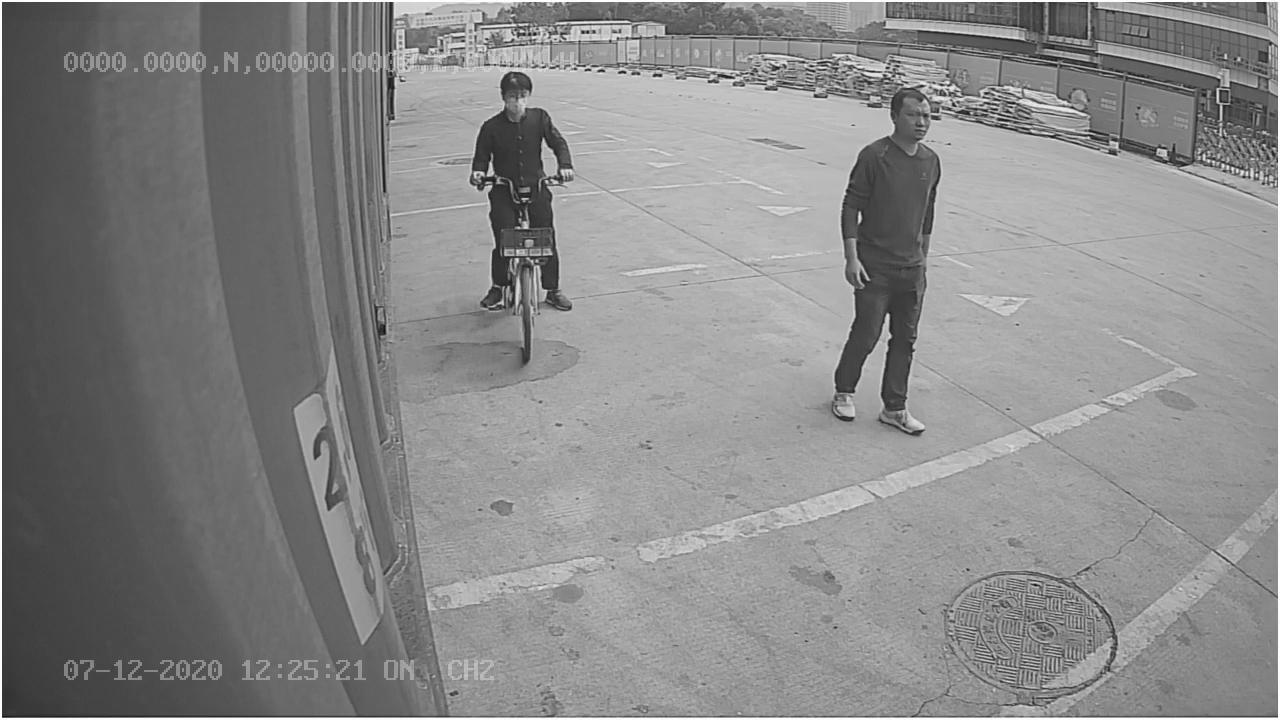person: (829, 84, 946, 434)
